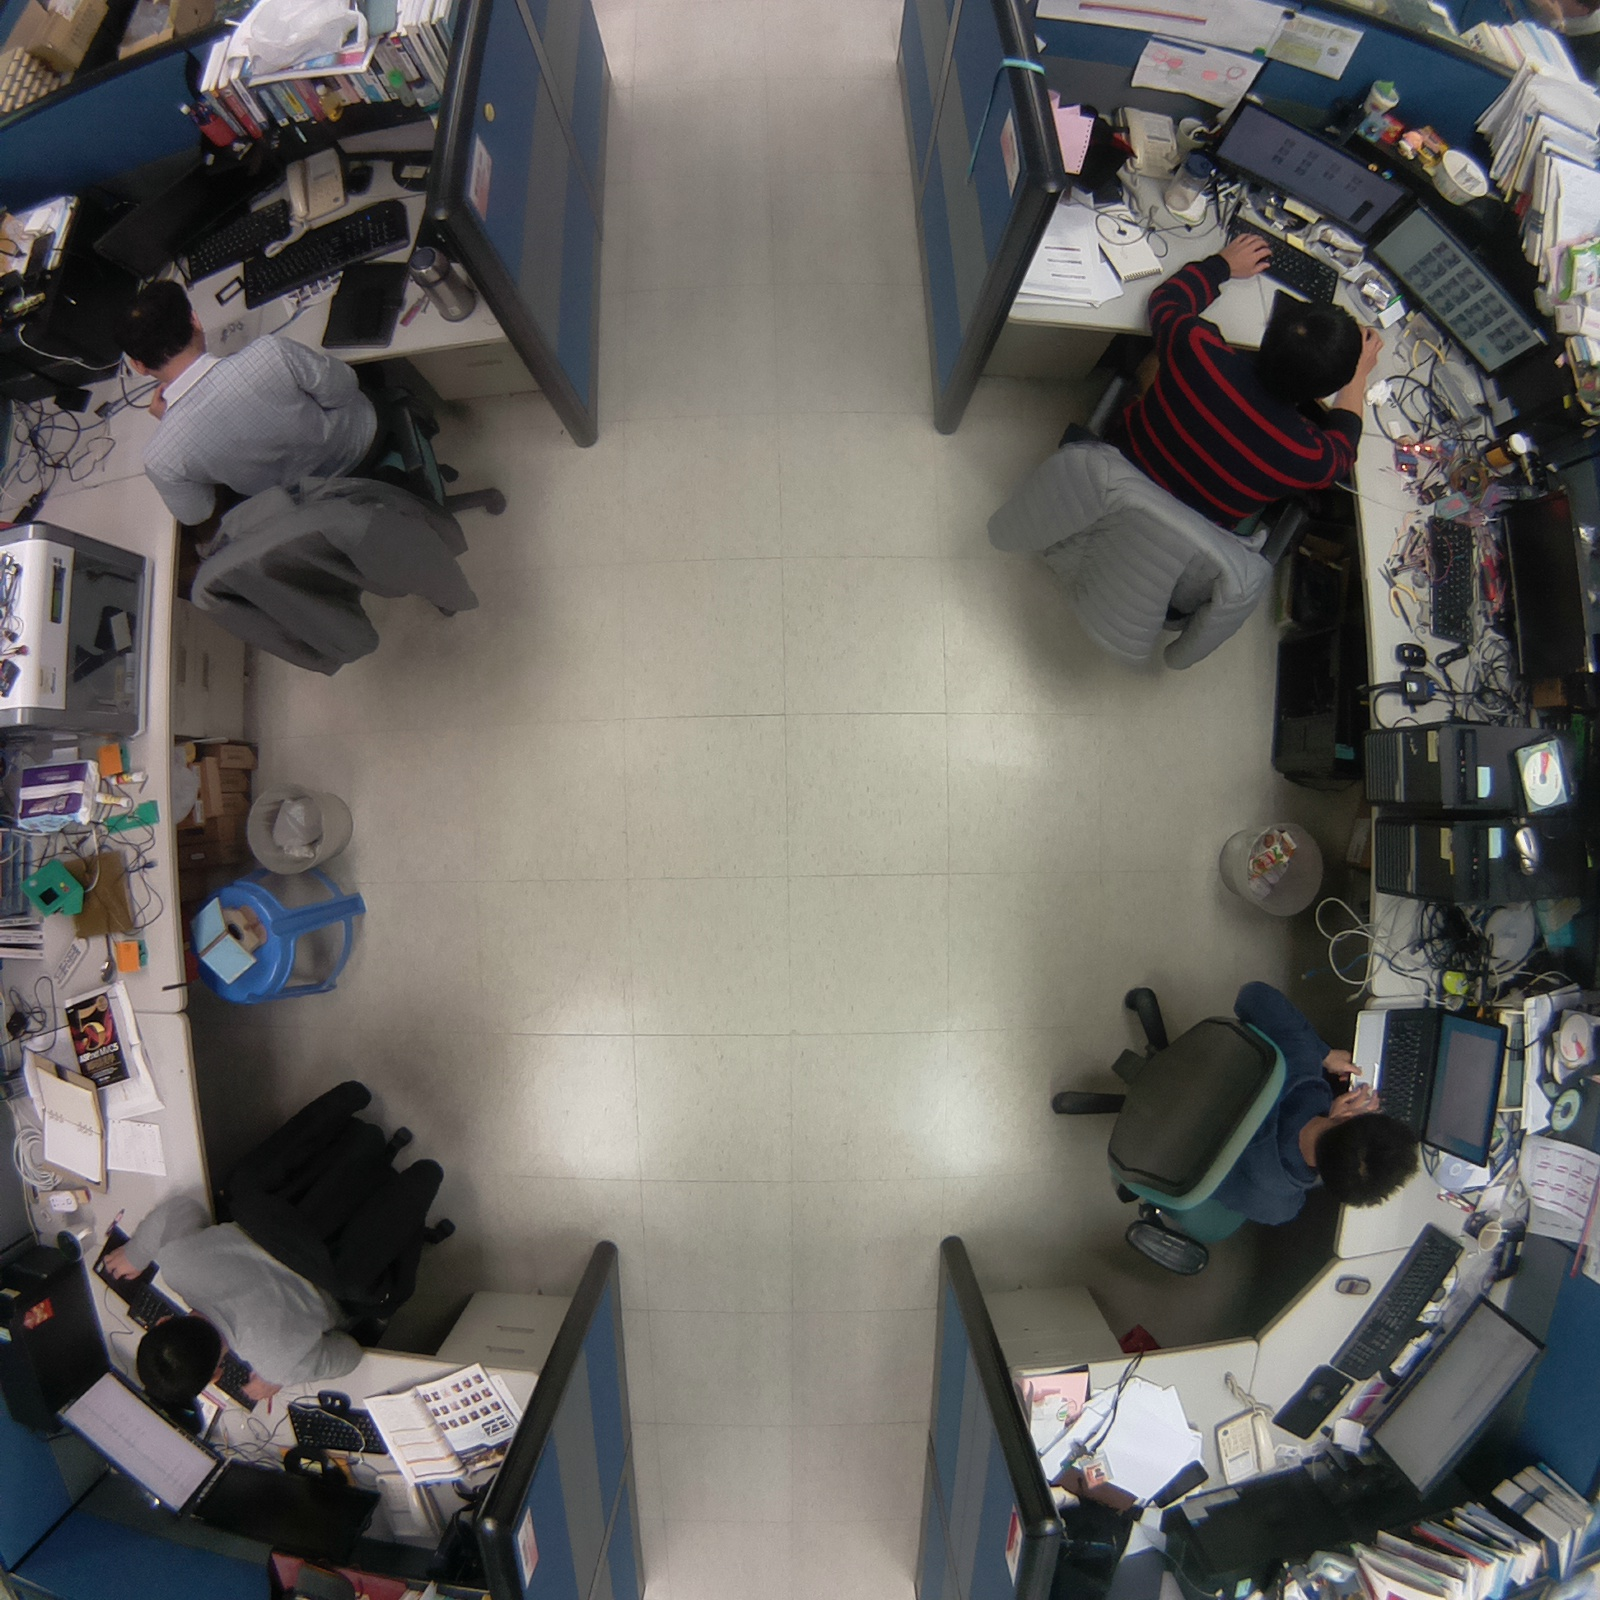head: (1251, 293, 1368, 406), (1310, 1102, 1419, 1214), (106, 276, 212, 385), (129, 1308, 232, 1410)
sitting: (970, 229, 1388, 699), (105, 275, 529, 686), (98, 1050, 468, 1412), (1040, 965, 1427, 1299)
